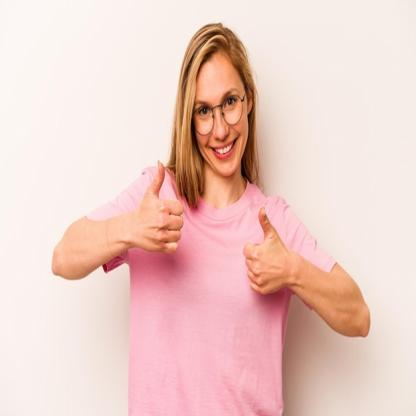thumb_up: (133, 156, 186, 259), (243, 204, 290, 298)
